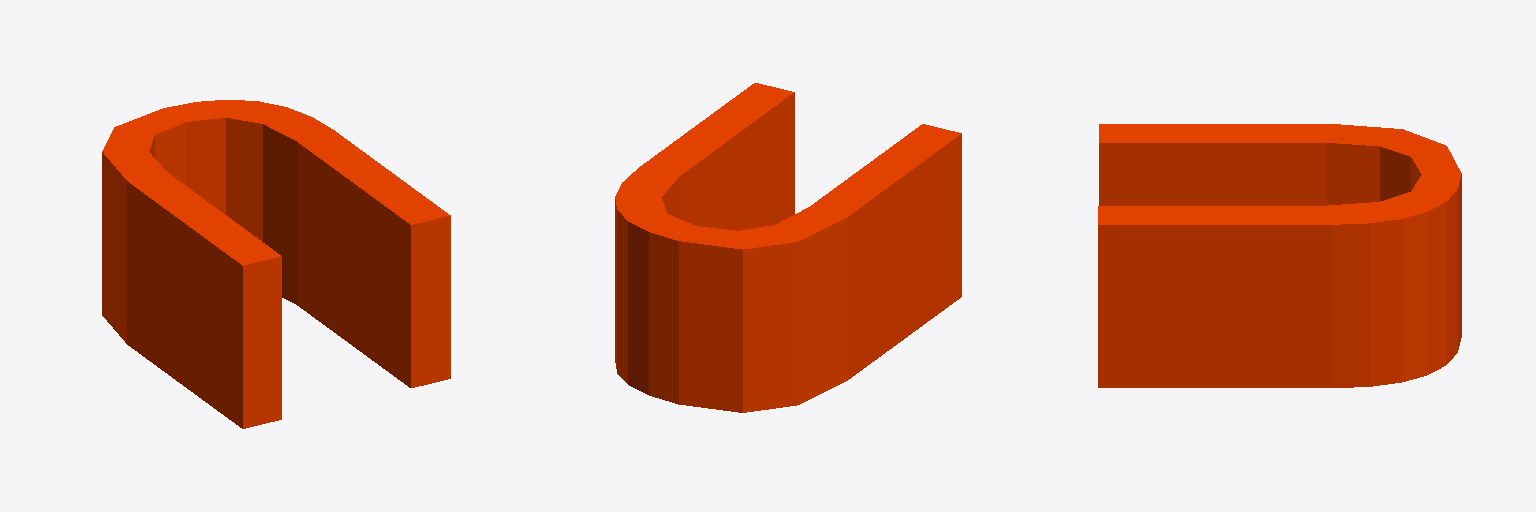
Rendered from Letter U1.obj.
3 views of the same model, side by side, from view 1: azimuth 30°, elevation 25°; view 2: azimuth 150°, elevation 25°; view 3: azimuth 270°, elevation 25° (orthographic).
Visible parts, largest first — view 1: obj_0; view 2: obj_0; view 3: obj_0.
Boxes of the visible parts, x1,y1,x2,y2 form: obj_0: [102, 100, 450, 428]; obj_0: [615, 83, 961, 412]; obj_0: [1098, 124, 1461, 387].
Size of the model in its own units: 51.11 by 38.48 by 77.51.